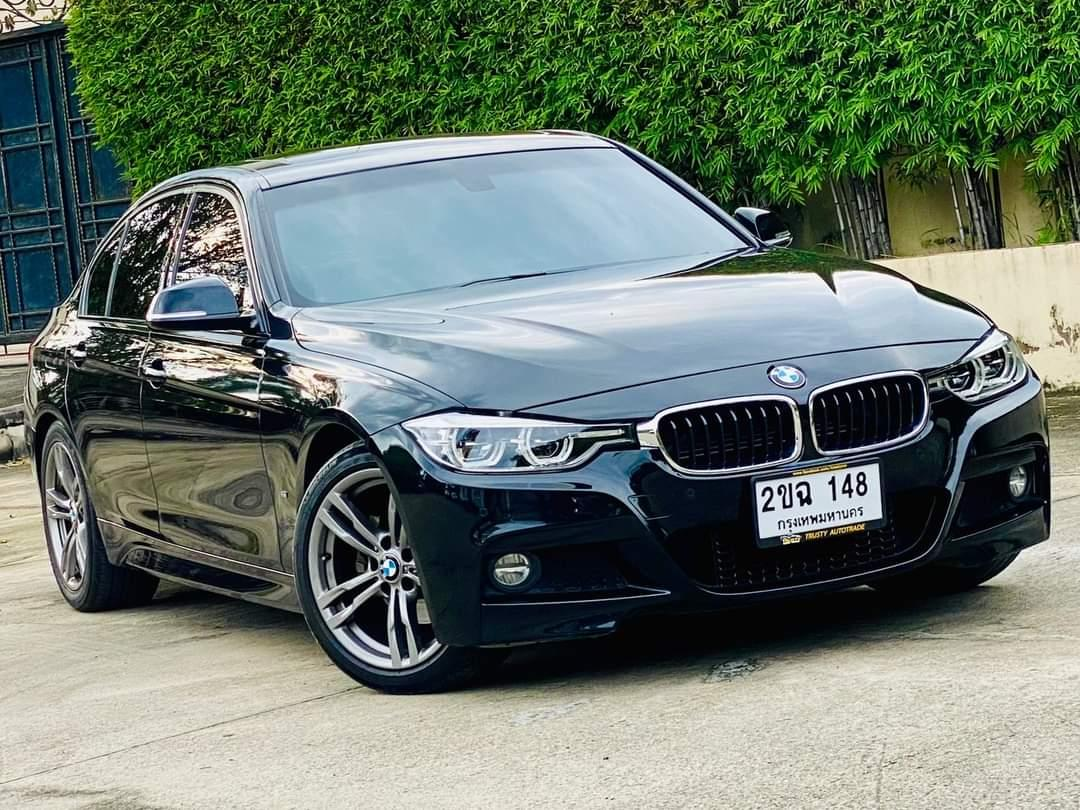license-plate: (746, 454, 888, 550)
